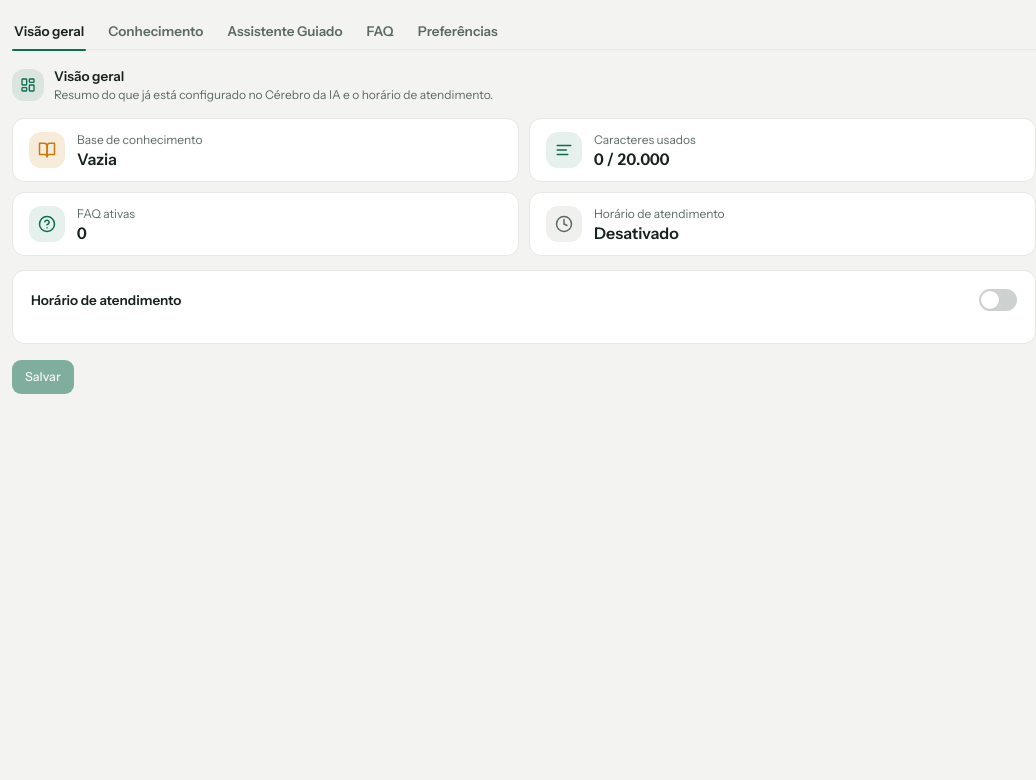
Test: AiProfilePanel — Horário de atendimento (F1.8, agora na aba Visão geral) › ligar o toggle exibe os campos de configuração (dias, horários, fuso, mensagem)
This screenshot has width=1036, height=780.
Click the switch named "Enviar aviso automático".
click(998, 300)  # box 979,289 -> 1017,311
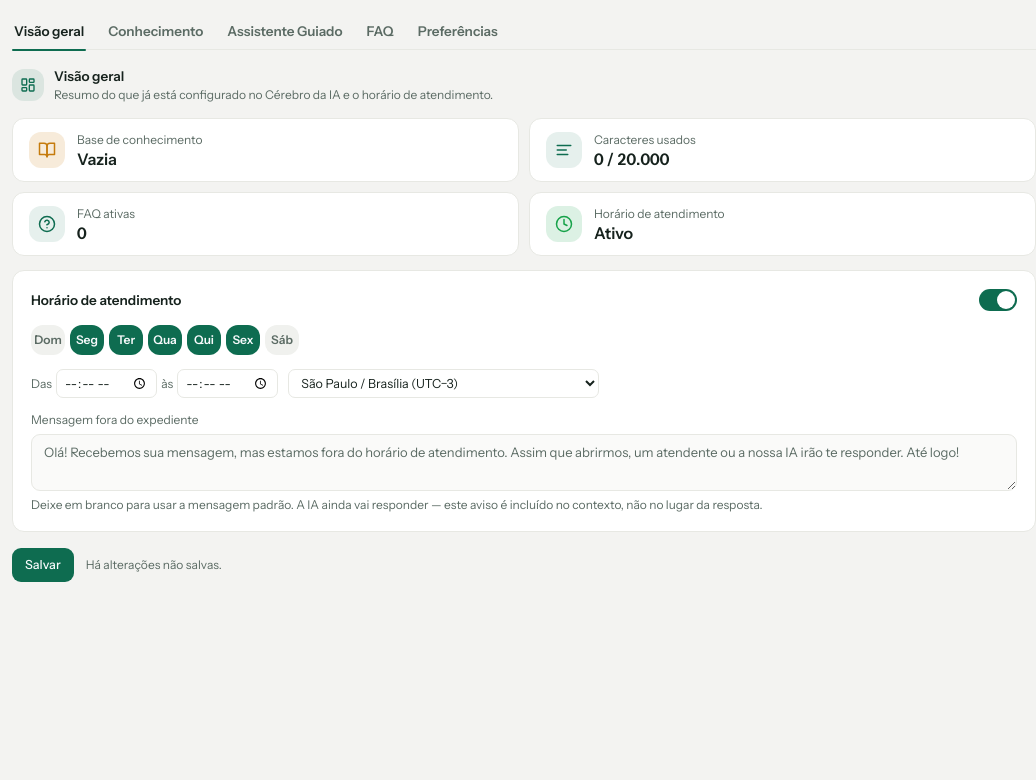
Expected: the time field named "Das" is shown, 56,369 -> 157,398
Expected: the time field named "Até" is shown, 177,369 -> 278,398
Expected: the dropdown named "Fuso horário" is shown, 288,369 -> 599,398
